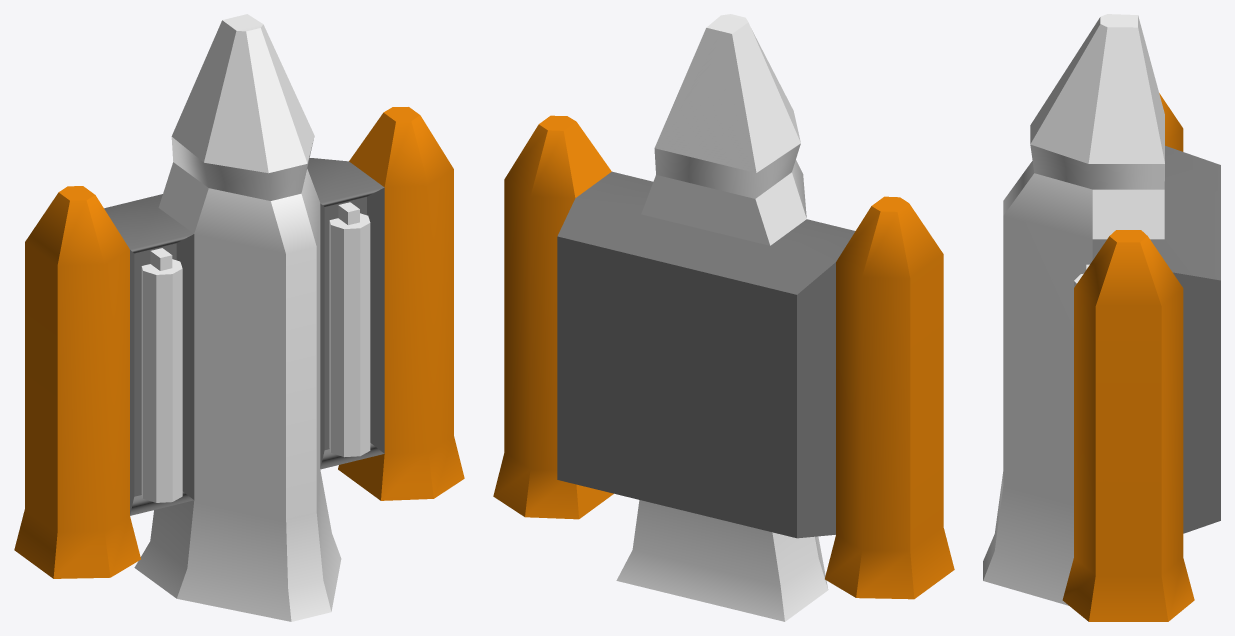
The model's file is Jetpack 1.fbx.
3 views of the same model, side by side, from view 1: azimuth 30°, elevation 25°; view 2: azimuth 150°, elevation 25°; view 3: azimuth 270°, elevation 25° (orthographic). The views are drawn at different scales.
Parts seen in each view (by area): view 1: pCylinder3; view 2: pCylinder3; view 3: pCylinder3.
Boxes of the visible parts, bbox=[...] form: pCylinder3: bbox=[14, 14, 464, 621]; pCylinder3: bbox=[493, 14, 954, 621]; pCylinder3: bbox=[983, 14, 1220, 621].
Size of the model in its own units: 6.66 by 8.43 by 3.3.
